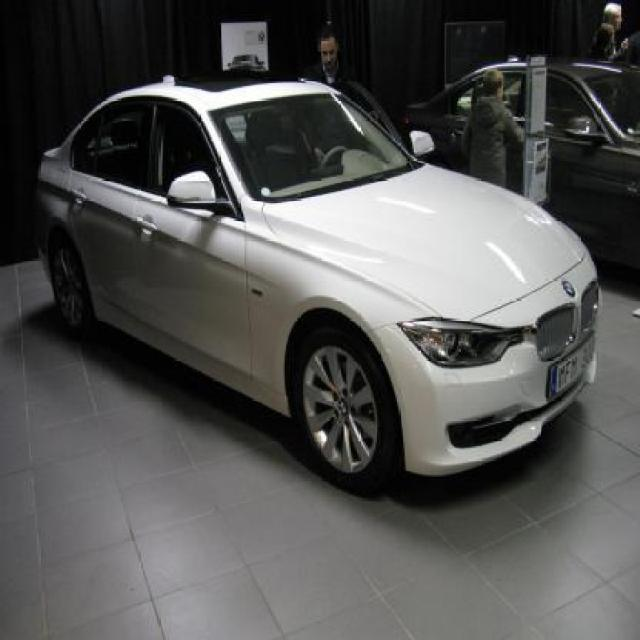Person: (452, 56, 540, 192), (295, 25, 379, 166), (588, 27, 629, 62), (599, 2, 621, 61), (621, 32, 639, 62)
